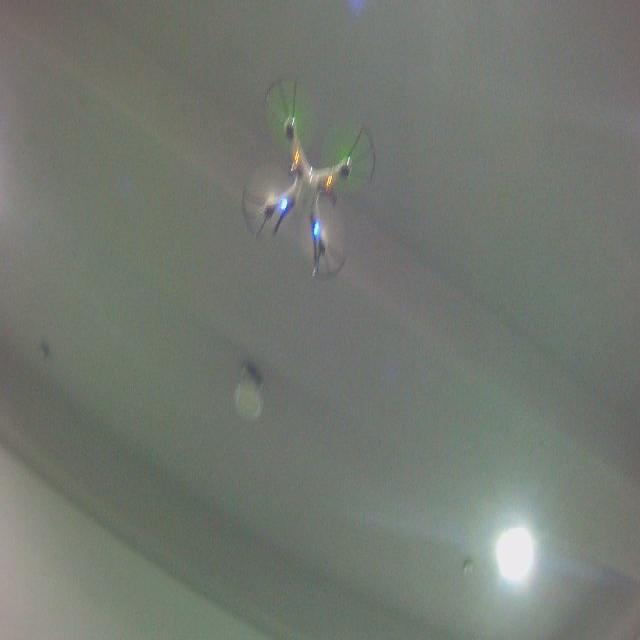drone: (239, 71, 379, 285)
